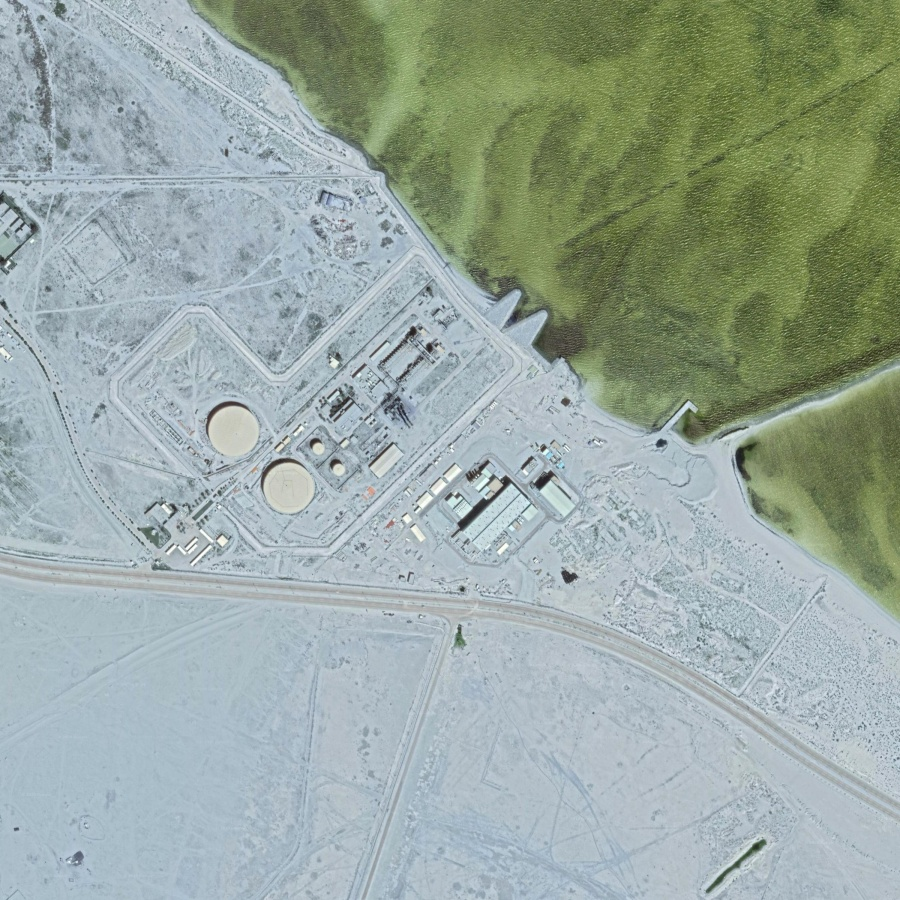PowerPlant: (185, 296, 590, 583)
